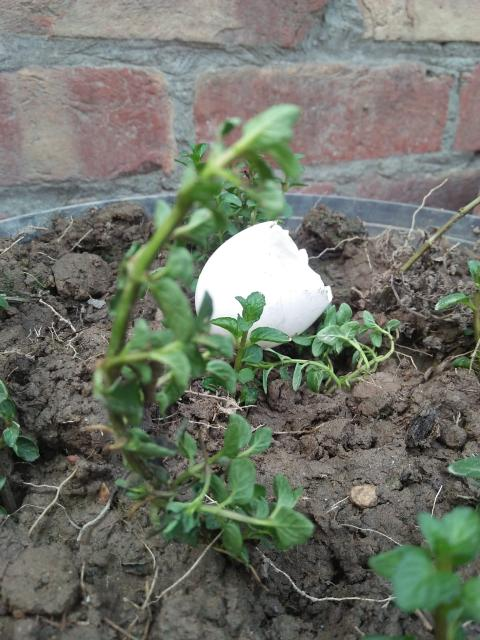Roto: (194, 219, 333, 352)
